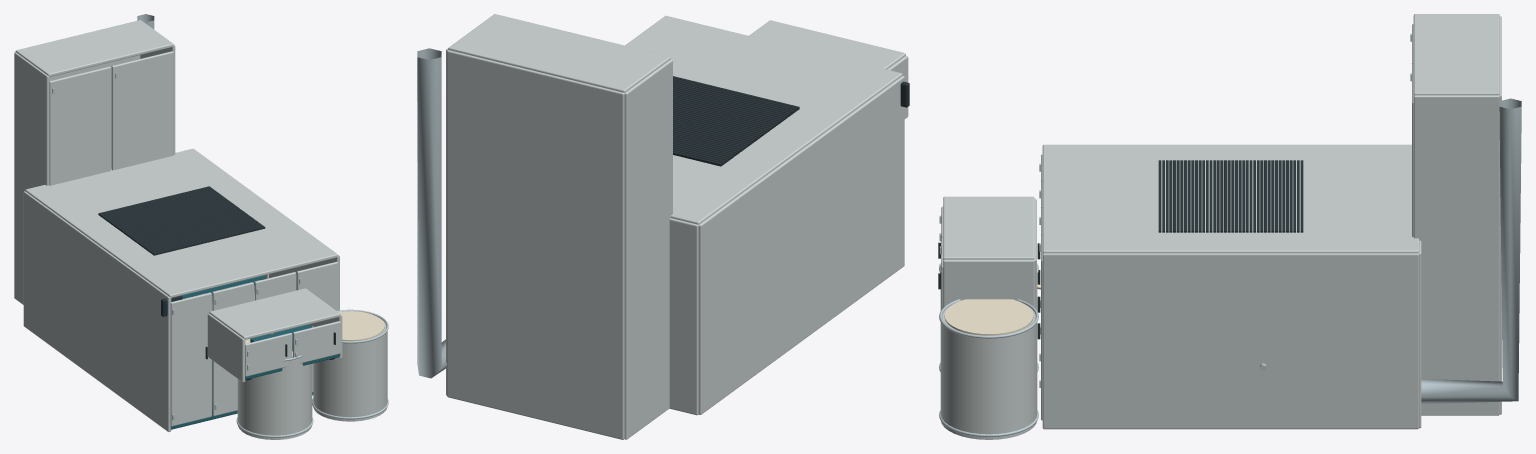
The model's file is carding.glb.
3 views of the same model, side by side, from view 1: azimuth 30°, elevation 25°; view 2: azimuth 150°, elevation 25°; view 3: azimuth 270°, elevation 25° (orthographic). The views are drawn at different scales.
Parts seen in each view (by area): view 1: C81_main_end, C81_main_roof, C81_feed_chute_door.001, C81_feed_chute_door, C81_feed_chute_end, can_body.001, C81_main_door, can_body, C81_feed_chute_roof, C81_coiler_roof, C81_main_door.001, C81_coiler_end (+9 smaller); view 2: C81_feed_chute_rear, C81_main_end, C81_main_roof, C81_feed_chute_end, C81_feed_chute_roof, C81_suction_main, C81_main_rear, C81_coiler_roof, C81_feed_chute_end.001; view 3: C81_main_end.001, C81_main_roof, C81_feed_chute_end.001, can_body.001, C81_suction_main, C81_feed_chute_roof, C81_coiler_roof, C81_coiler_end.001, sliver_surface.001, can_rim.003, C81_main_rear.
Part boxes in pixels (x1,y1,x2,y2): C81_main_end: [23, 191, 171, 431]; C81_main_roof: [25, 148, 338, 297]; C81_feed_chute_door.001: [111, 51, 173, 170]; C81_feed_chute_door: [49, 66, 110, 185]; C81_feed_chute_end: [14, 52, 49, 304]; can_body.001: [313, 319, 387, 421]; C81_main_door: [170, 292, 211, 426]; can_body: [237, 358, 312, 439]; C81_feed_chute_roof: [15, 20, 173, 76]; C81_coiler_roof: [209, 288, 340, 339]; C81_main_door.001: [212, 282, 253, 416]; C81_coiler_end: [207, 313, 245, 382]; C81_feed_chute_rear: [447, 50, 624, 439]; C81_main_end: [698, 76, 904, 414]; C81_main_roof: [625, 15, 902, 224]; C81_feed_chute_end: [624, 59, 672, 439]; C81_feed_chute_roof: [448, 14, 670, 92]; C81_suction_main: [417, 48, 446, 378]; C81_main_rear: [669, 218, 698, 415]; C81_coiler_roof: [749, 20, 905, 69]; C81_feed_chute_end.001: [446, 48, 448, 395]; C81_main_end.001: [1042, 253, 1419, 429]; C81_main_roof: [1042, 144, 1419, 253]; C81_feed_chute_end.001: [1413, 95, 1499, 415]; can_body.001: [940, 306, 1037, 439]; C81_suction_main: [1421, 98, 1521, 403]; C81_feed_chute_roof: [1413, 14, 1499, 95]; C81_coiler_roof: [943, 196, 1034, 259]; C81_coiler_end.001: [943, 259, 1034, 307]; sliver_surface.001: [944, 299, 1033, 335]; can_rim.003: [939, 299, 1038, 338]; C81_main_rear: [1419, 240, 1421, 428].
Size of the model in its own units: 2.77 by 3.3 by 5.43.
